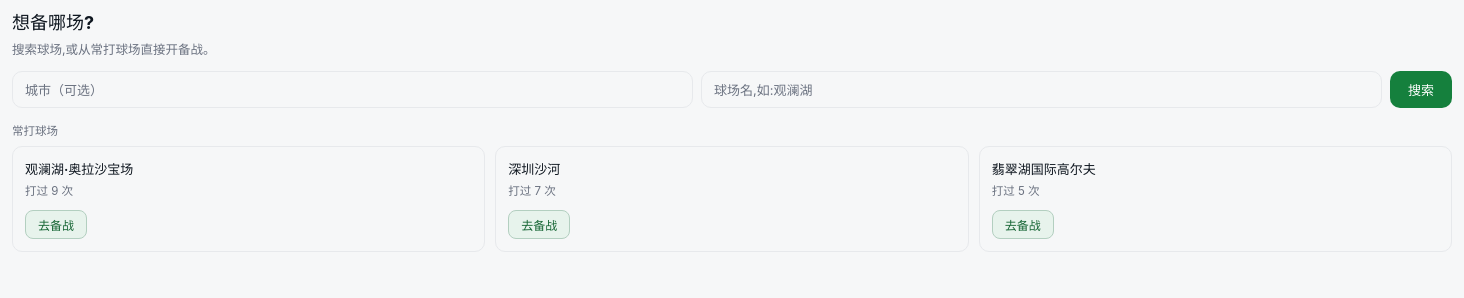
Test: CourseFinder › shows 搜索失败 with the error message when the search rejects
Type "观澜湖" into the field named "搜索球场" at (1042,90), box [701, 71, 1382, 108]
Then press Enter
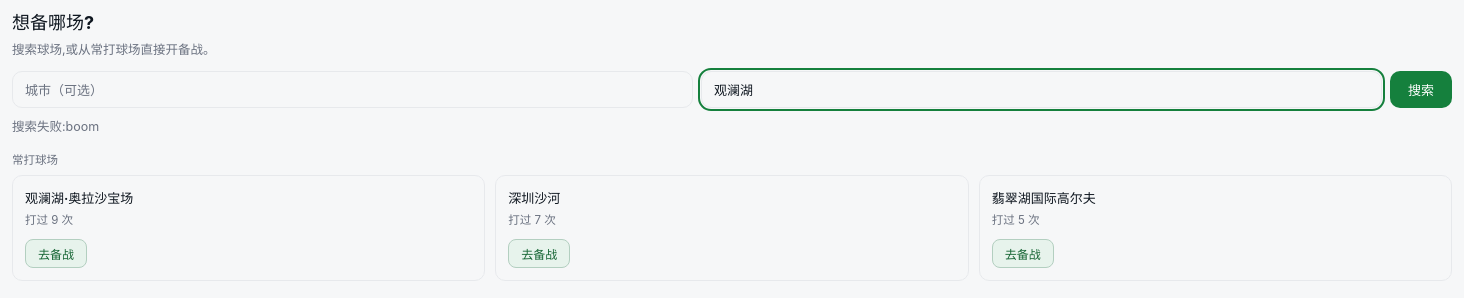
Now the text "搜索失败:boom" is shown, box [12, 119, 99, 134]
